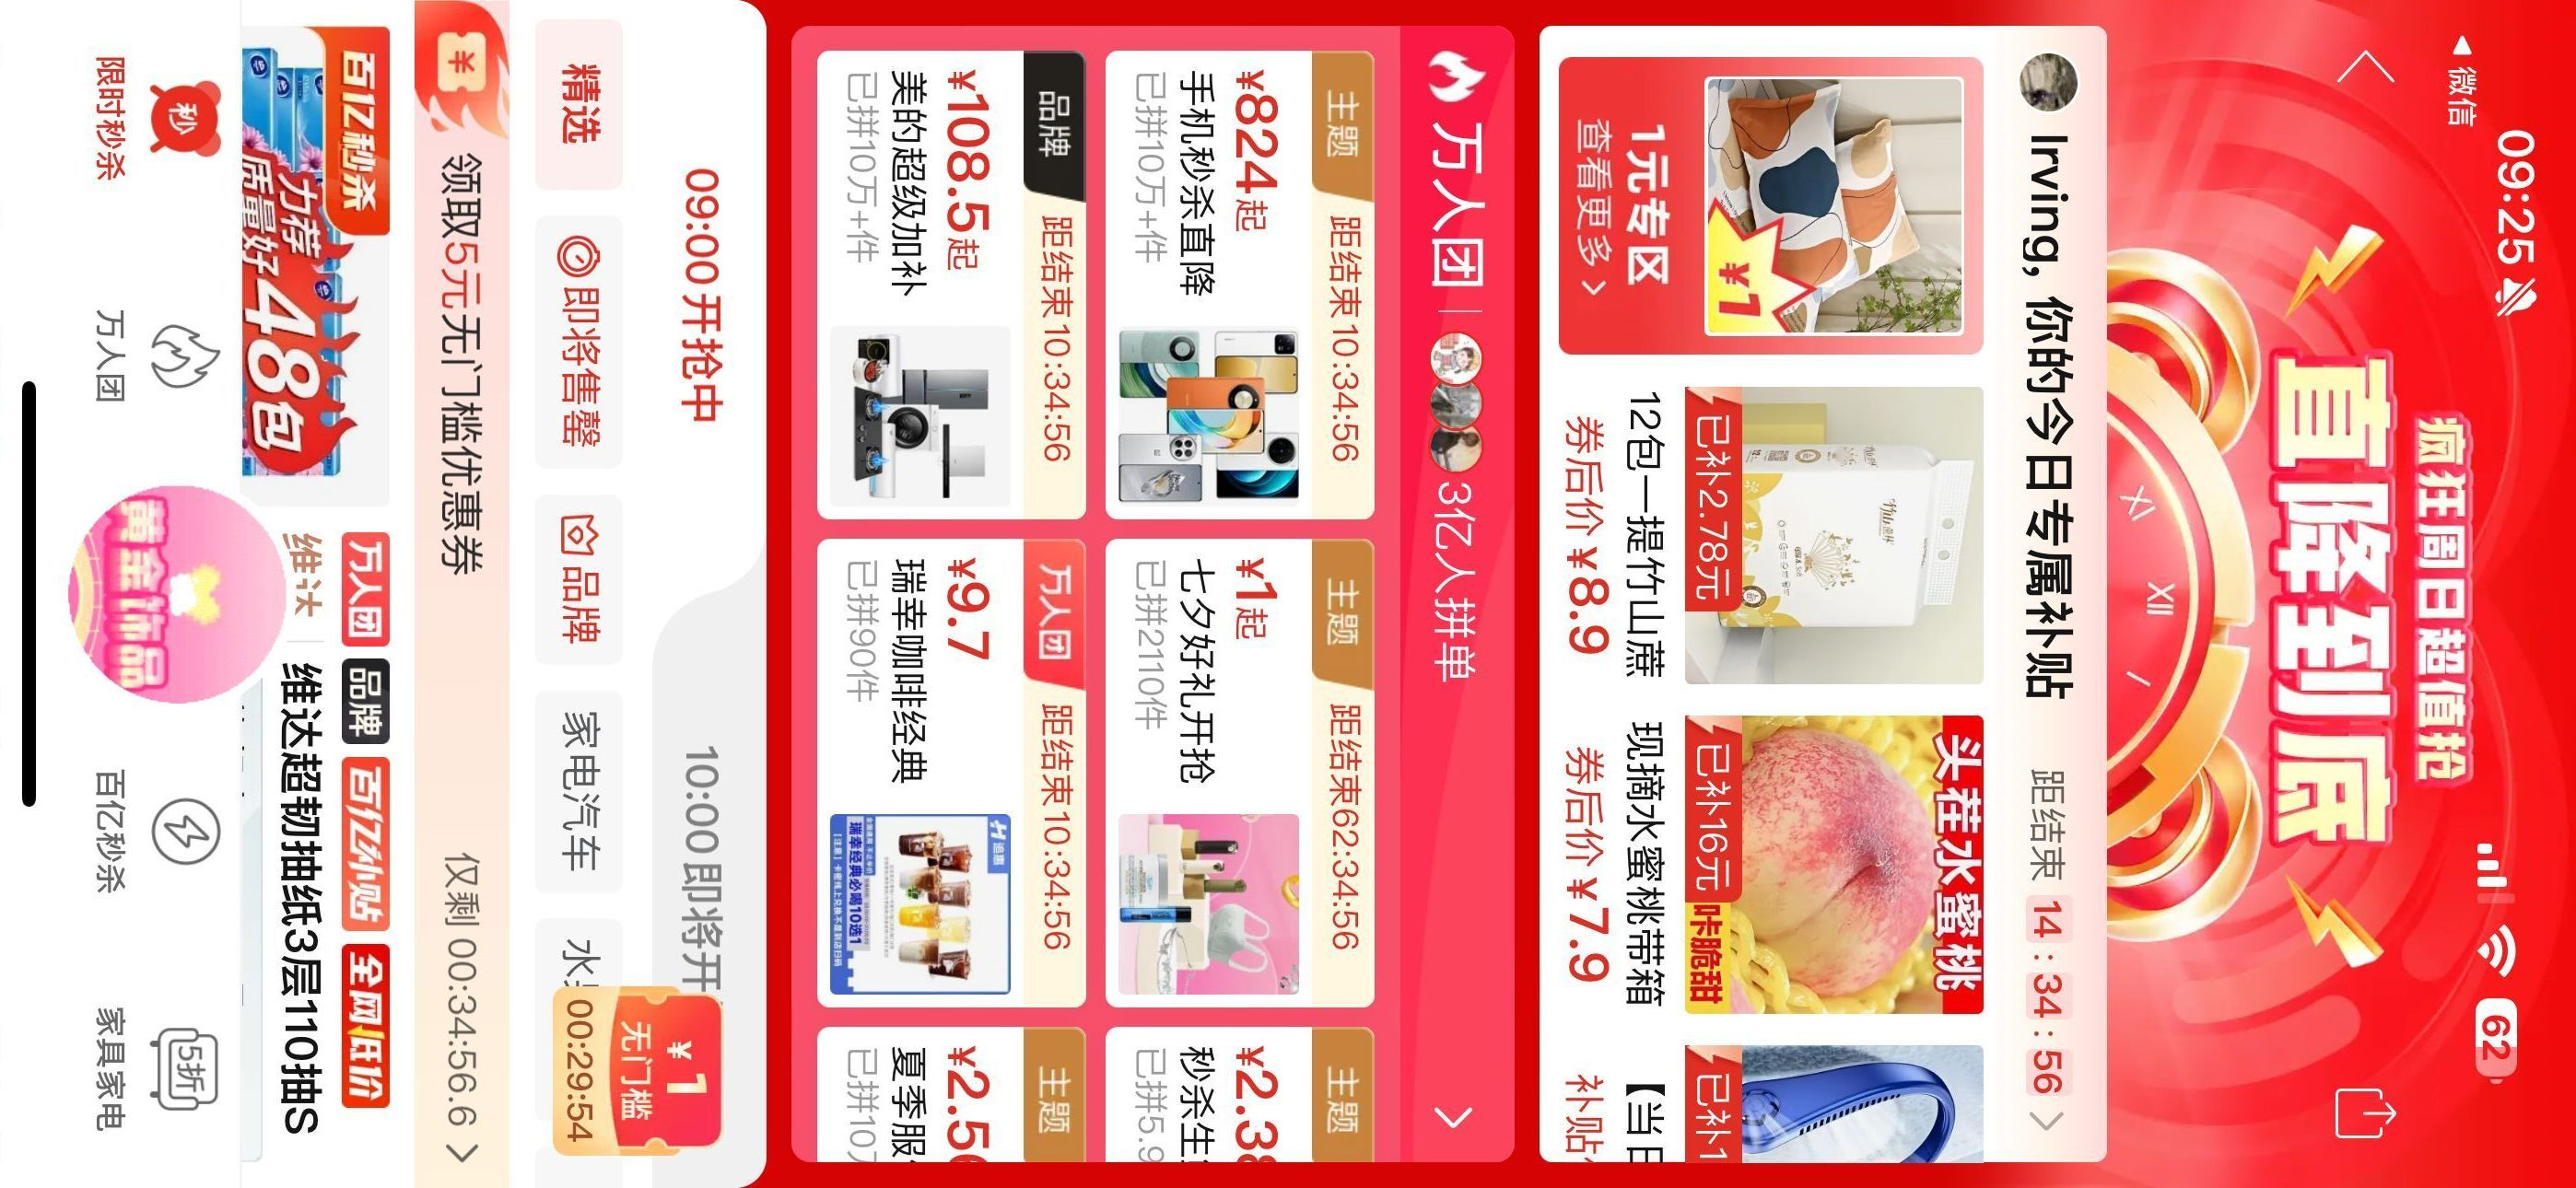banner: (406, 2, 519, 1188)
op_bar: (2307, 5, 2436, 1188)
seckill: (787, 2, 1520, 1188), (1526, 2, 2124, 1188)
